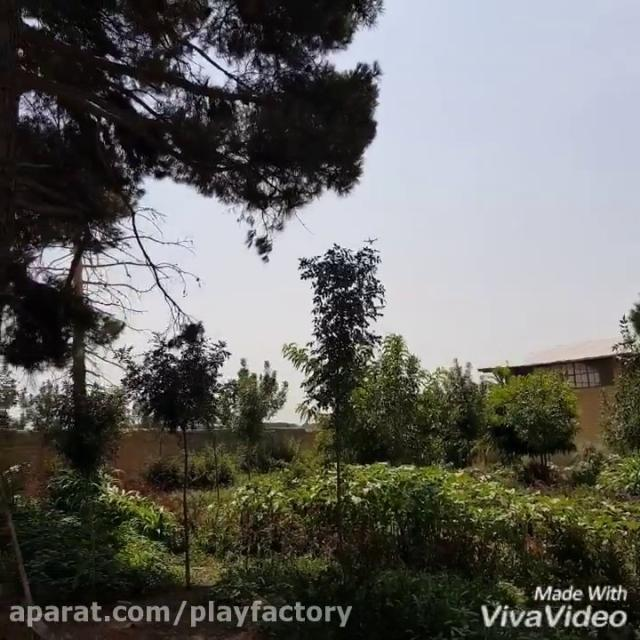drone: (362, 233, 380, 246)
